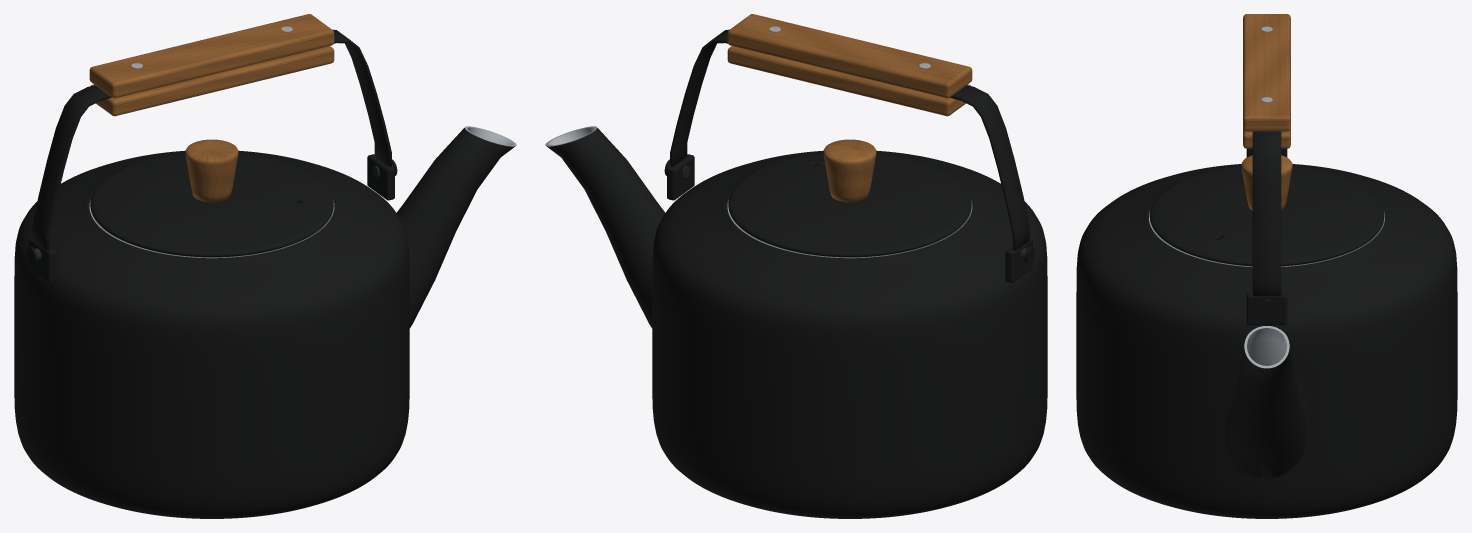
File: kettle-reference.glb
3 renders of one model, left to right at view 1: azimuth 30°, elevation 25°; view 2: azimuth 150°, elevation 25°; view 3: azimuth 270°, elevation 25°, orthographic. The views are drawn at different scales.
Parts seen in each view (by area): view 1: kettle_body, kettle_lid_disc, kettle_wood_grip_upper, kettle_handle_strap, kettle_wood_grip_lower, kettle_wood_knob, kettle_hinge_bracket_right, kettle_hinge_bracket_left; view 2: kettle_body, kettle_lid_disc, kettle_wood_grip_upper, kettle_handle_strap, kettle_wood_grip_lower, kettle_wood_knob, kettle_hinge_bracket_right, kettle_hinge_bracket_left; view 3: kettle_body, kettle_lid_disc, kettle_wood_grip_upper, kettle_handle_strap, kettle_hinge_bracket_right, kettle_wood_knob.
Boxes of the visible parts, <box> form: kettle_body: <box>14,126,516,518</box>; kettle_lid_disc: <box>90,153,333,257</box>; kettle_wood_grip_upper: <box>89,14,334,98</box>; kettle_handle_strap: <box>32,29,391,250</box>; kettle_wood_grip_lower: <box>90,46,334,116</box>; kettle_wood_knob: <box>185,139,238,202</box>; kettle_hinge_bracket_right: <box>367,154,394,200</box>; kettle_hinge_bracket_left: <box>29,237,56,282</box>; kettle_body: <box>545,126,1047,518</box>; kettle_lid_disc: <box>728,153,971,257</box>; kettle_wood_grip_upper: <box>727,14,972,98</box>; kettle_handle_strap: <box>670,29,1029,250</box>; kettle_wood_grip_lower: <box>727,46,971,116</box>; kettle_wood_knob: <box>823,139,876,202</box>; kettle_hinge_bracket_right: <box>667,154,694,200</box>; kettle_hinge_bracket_left: <box>1005,237,1032,282</box>; kettle_body: <box>1076,164,1457,518</box>; kettle_lid_disc: <box>1149,166,1384,266</box>; kettle_wood_grip_upper: <box>1243,14,1290,131</box>; kettle_handle_strap: <box>1252,131,1281,296</box>; kettle_hinge_bracket_right: <box>1246,292,1287,325</box>; kettle_wood_knob: <box>1241,155,1292,210</box>.
Size of the model in its own units: 0.2255 by 0.1775 by 0.1599.
Materials: 4 (1 with a texture image).
